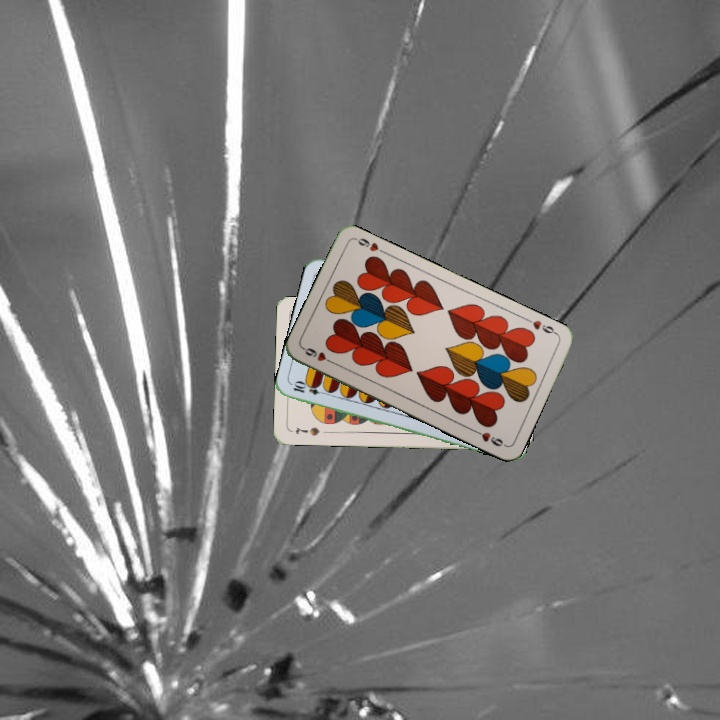E10: (289, 379, 330, 398)
H9: (299, 344, 338, 367), (522, 314, 560, 337)
S7: (292, 423, 322, 438)
